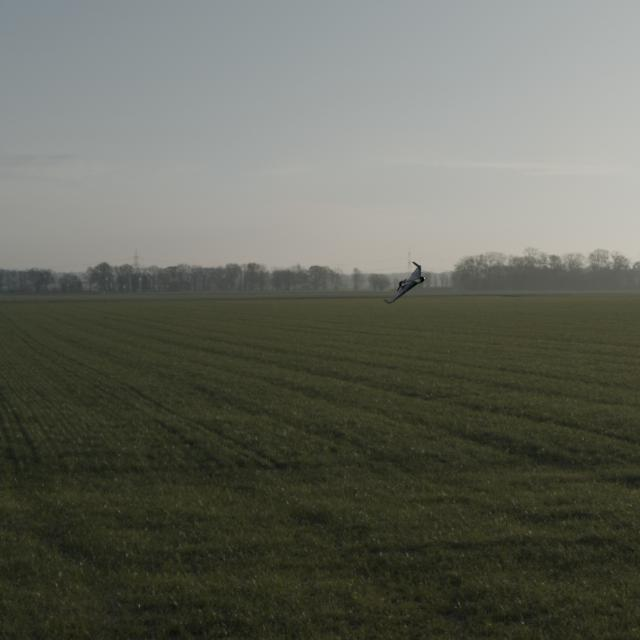Airaplan: (383, 261, 425, 304)
